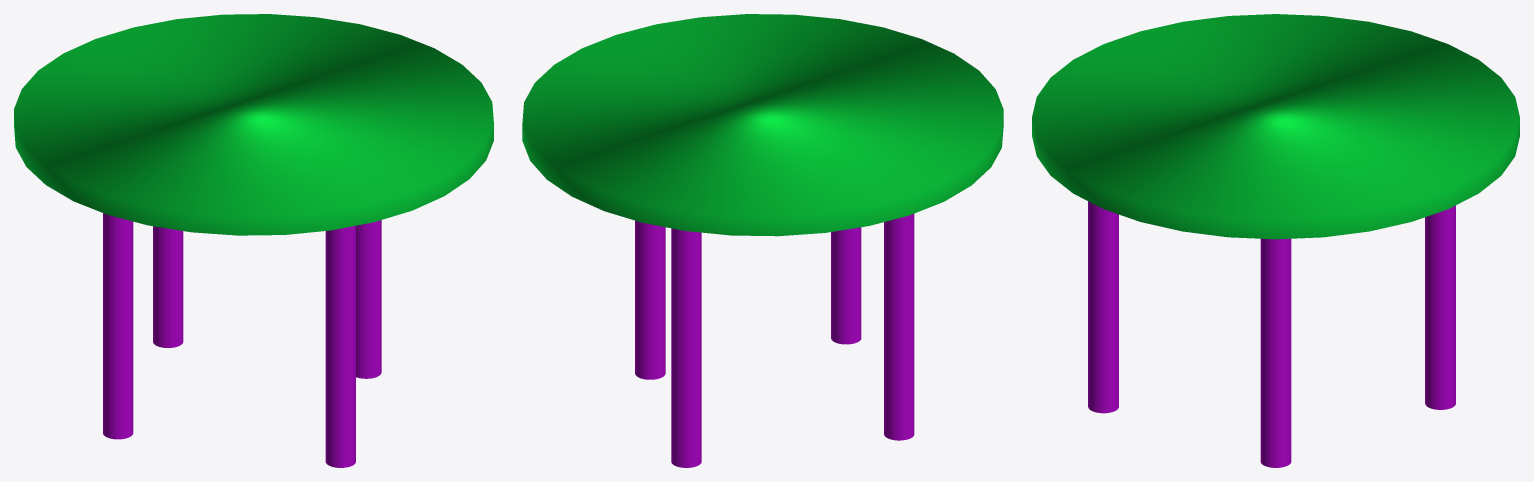
The model's file is mesa.fbx.
3 renders of one model, left to right at view 1: azimuth 30°, elevation 25°; view 2: azimuth 150°, elevation 25°; view 3: azimuth 270°, elevation 25°, orthographic.
Visible parts, largest first — view 1: Cylinder.004; view 2: Cylinder.004; view 3: Cylinder.004.
Part boxes in pixels (box(x1,y1,x2,y2)): Cylinder.004: box(14, 14, 493, 467); Cylinder.004: box(522, 14, 1003, 467); Cylinder.004: box(1032, 14, 1519, 467).
Size of the model in its own units: 200 by 200 by 131.
